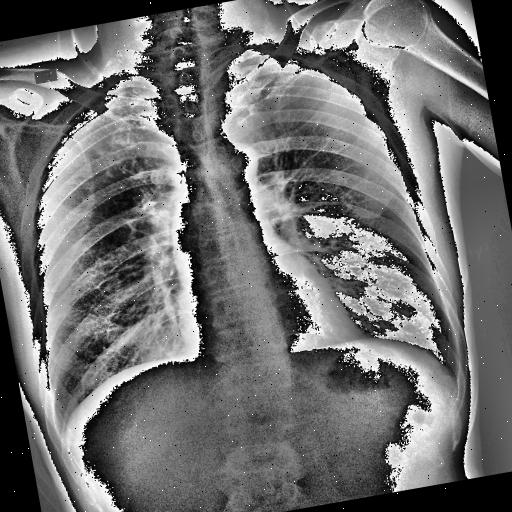11- Pleural thickening: (208, 41, 320, 96), (58, 430, 70, 446)
13- Pulmonary fibrosis: (54, 72, 174, 196), (230, 48, 338, 130), (89, 107, 176, 205), (84, 98, 154, 164)
